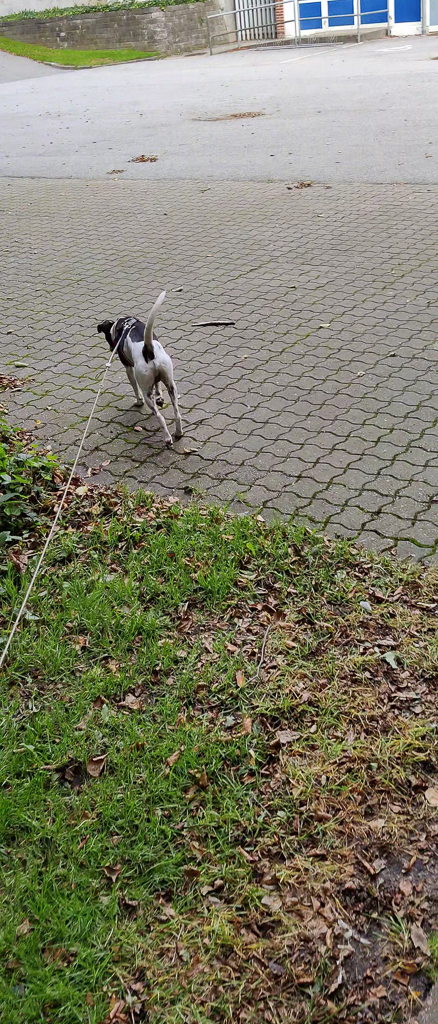Dog: (92, 279, 206, 453)
